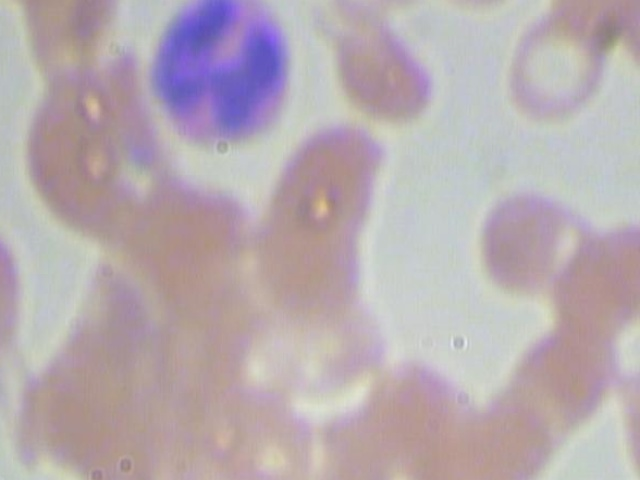WBC: (133, 0, 302, 151)
